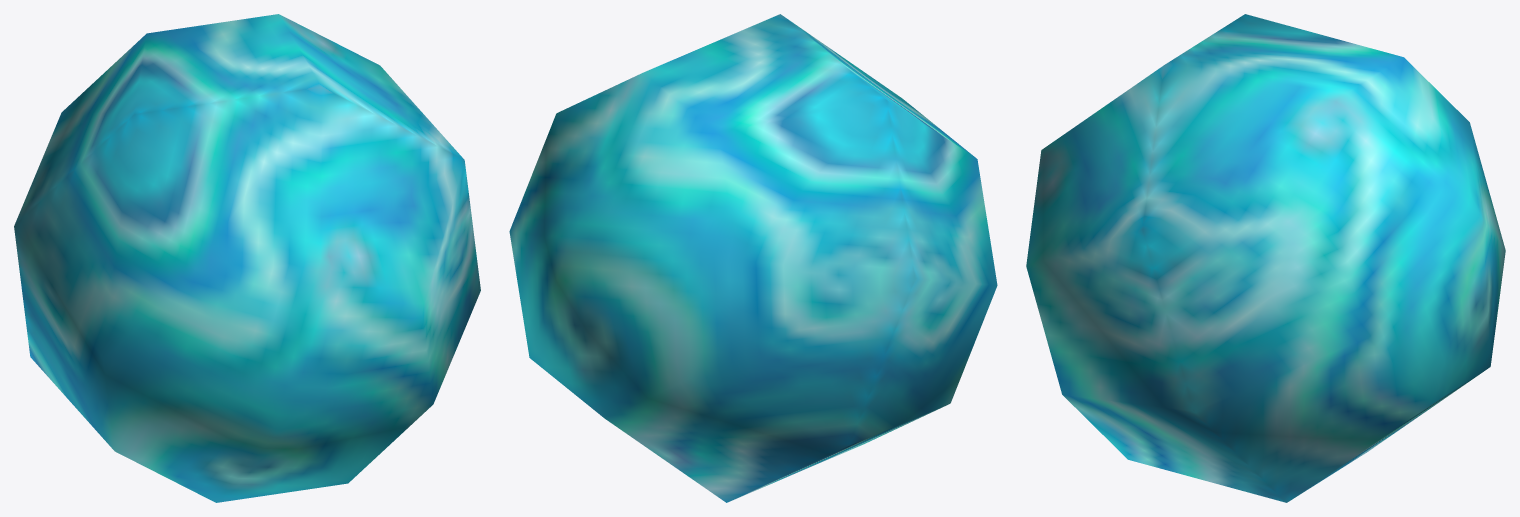
The model's file is prop_list_11.FBX.
3 views of the same model, side by side, from view 1: azimuth 30°, elevation 25°; view 2: azimuth 150°, elevation 25°; view 3: azimuth 270°, elevation 25° (orthographic).
Parts seen in each view (by area): view 1: prop_list_16; view 2: prop_list_16; view 3: prop_list_16.
Boxes of the visible parts, left/top/right/bottom form: prop_list_16: left=14, top=14, right=480, bottom=502; prop_list_16: left=509, top=14, right=997, bottom=502; prop_list_16: left=1026, top=14, right=1505, bottom=502.
Bounding box in the file's own units: 27.91 × 27.32 × 28.98.
